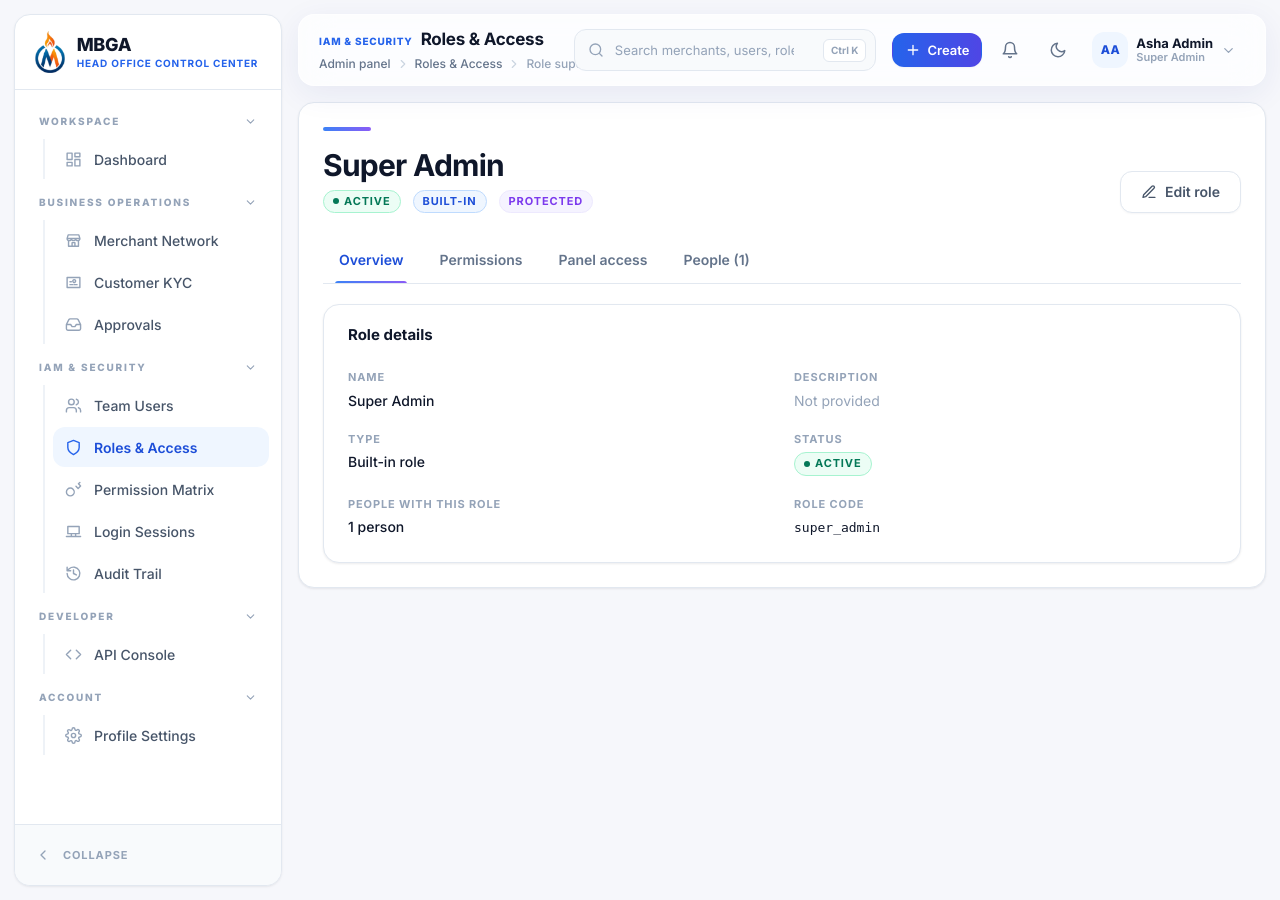
Test: Roles page › deactivates a custom role only after confirmation; the Super Admin role cannot be deactivated
The image size is (1280, 900).
Expected: the heading "Super Admin" is shown, [323, 147, 504, 183]
Click the link "Roles & Access" next to "Admin panel".
click(459, 63)  # box [415, 56, 502, 71]
(page scrolled)
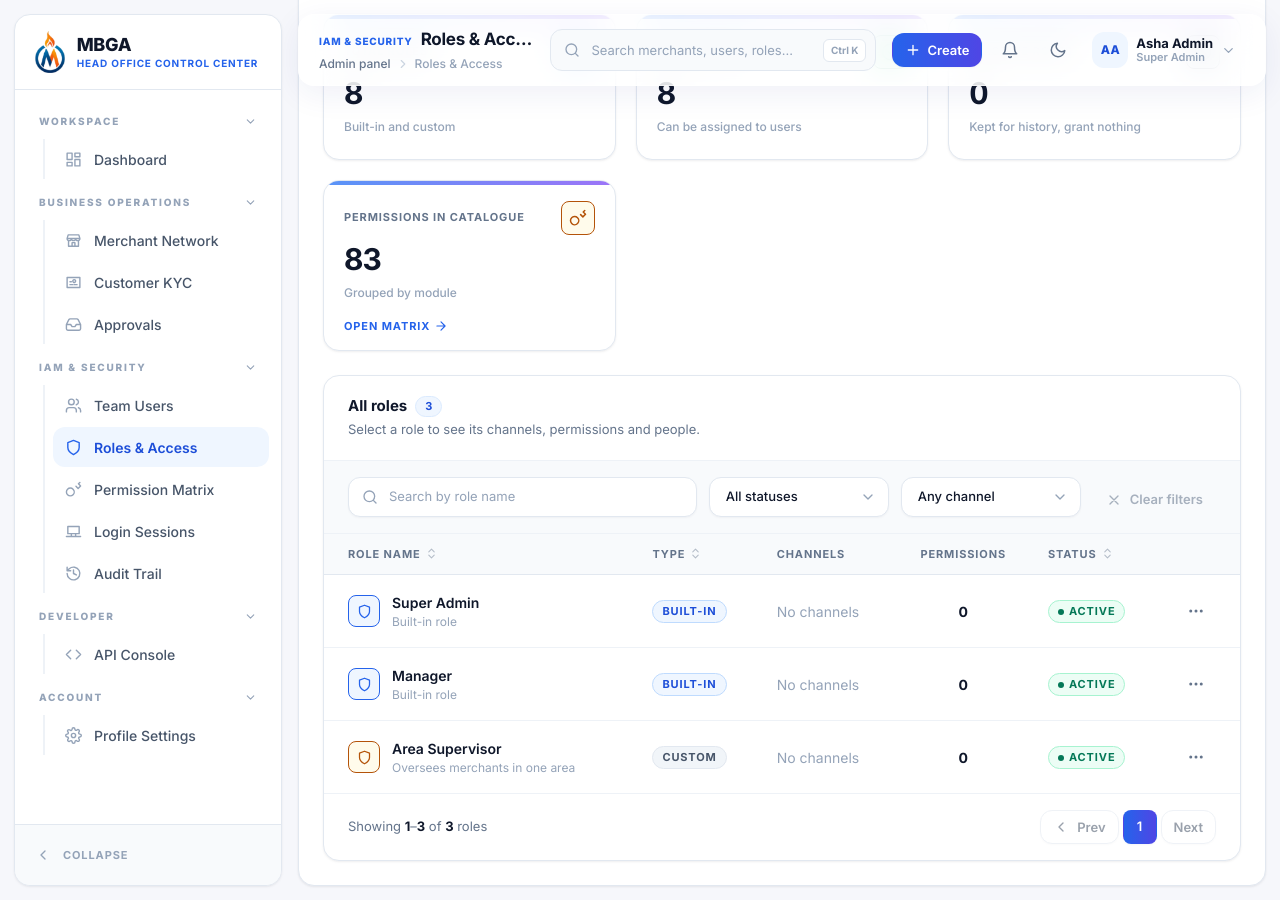
Click the link "Area Supervisor".
click(447, 748)  # box [392, 740, 502, 756]
(page scrolled)
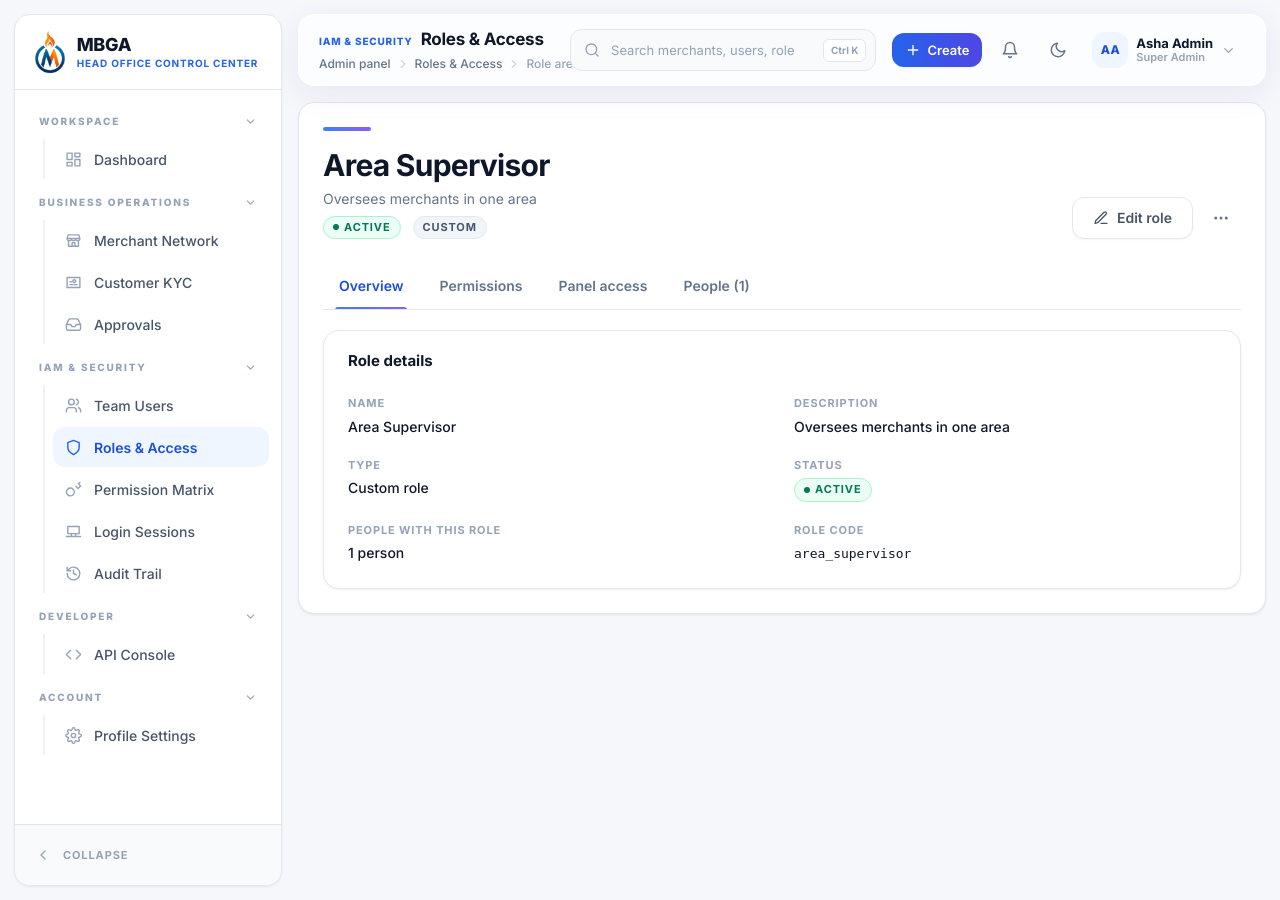
Result: the heading "Area Supervisor" is shown at [323, 148, 550, 182]
Click the button named "More role actions".
click(1221, 218)  # box [1201, 198, 1241, 238]
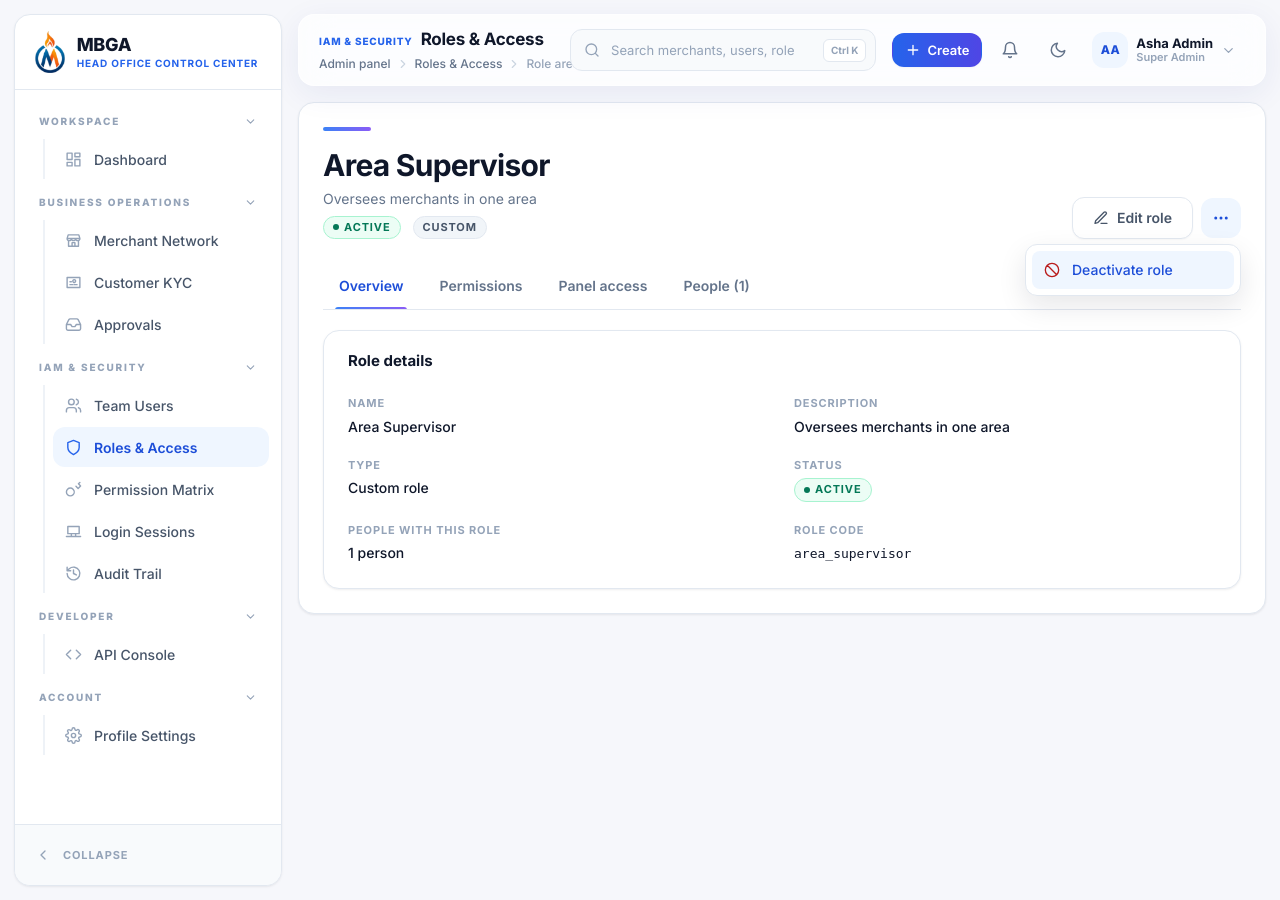
Click the menu item "Deactivate role".
click(1133, 270)  # box [1032, 251, 1234, 289]
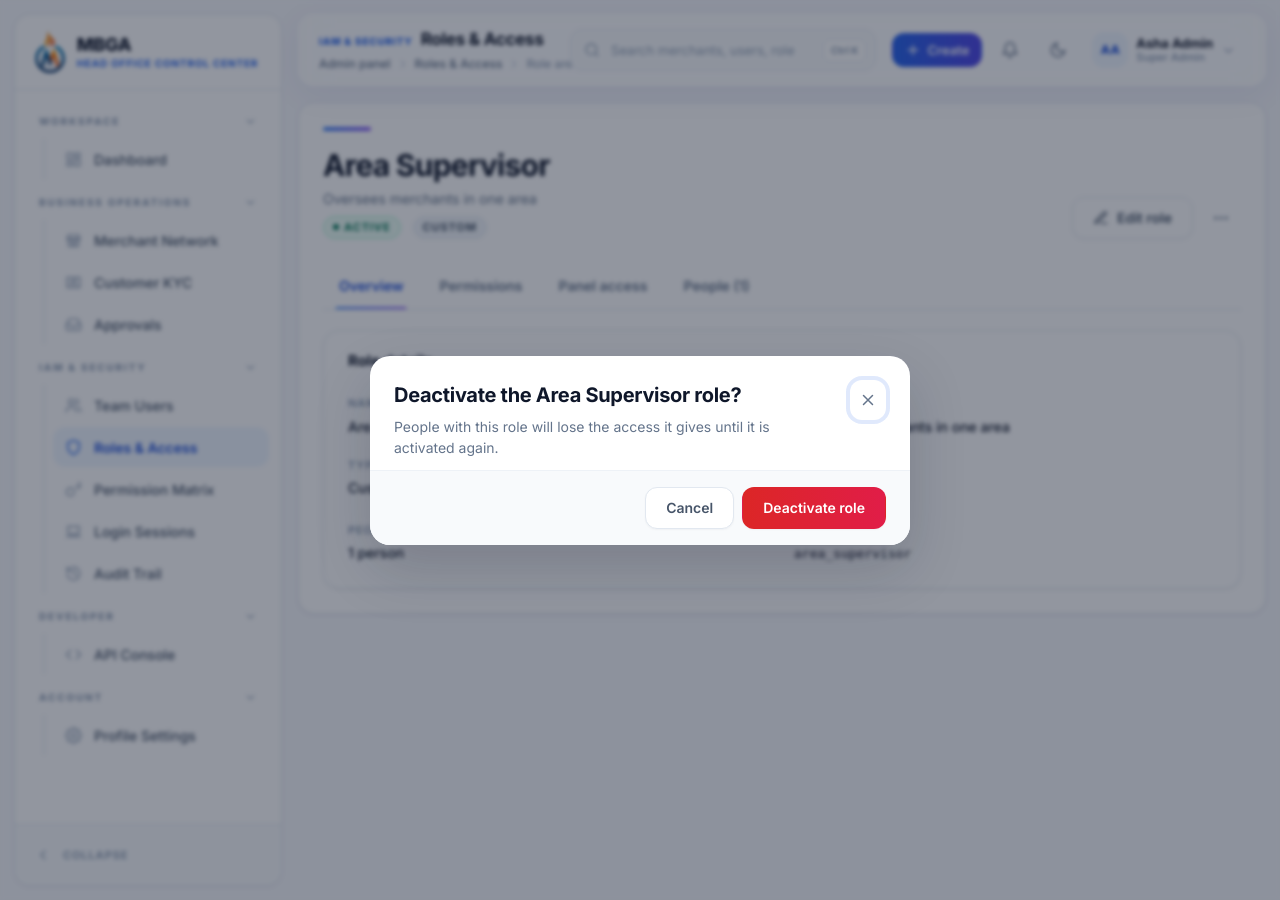
Click the button "Deactivate role".
click(814, 508)  # box [742, 486, 886, 528]
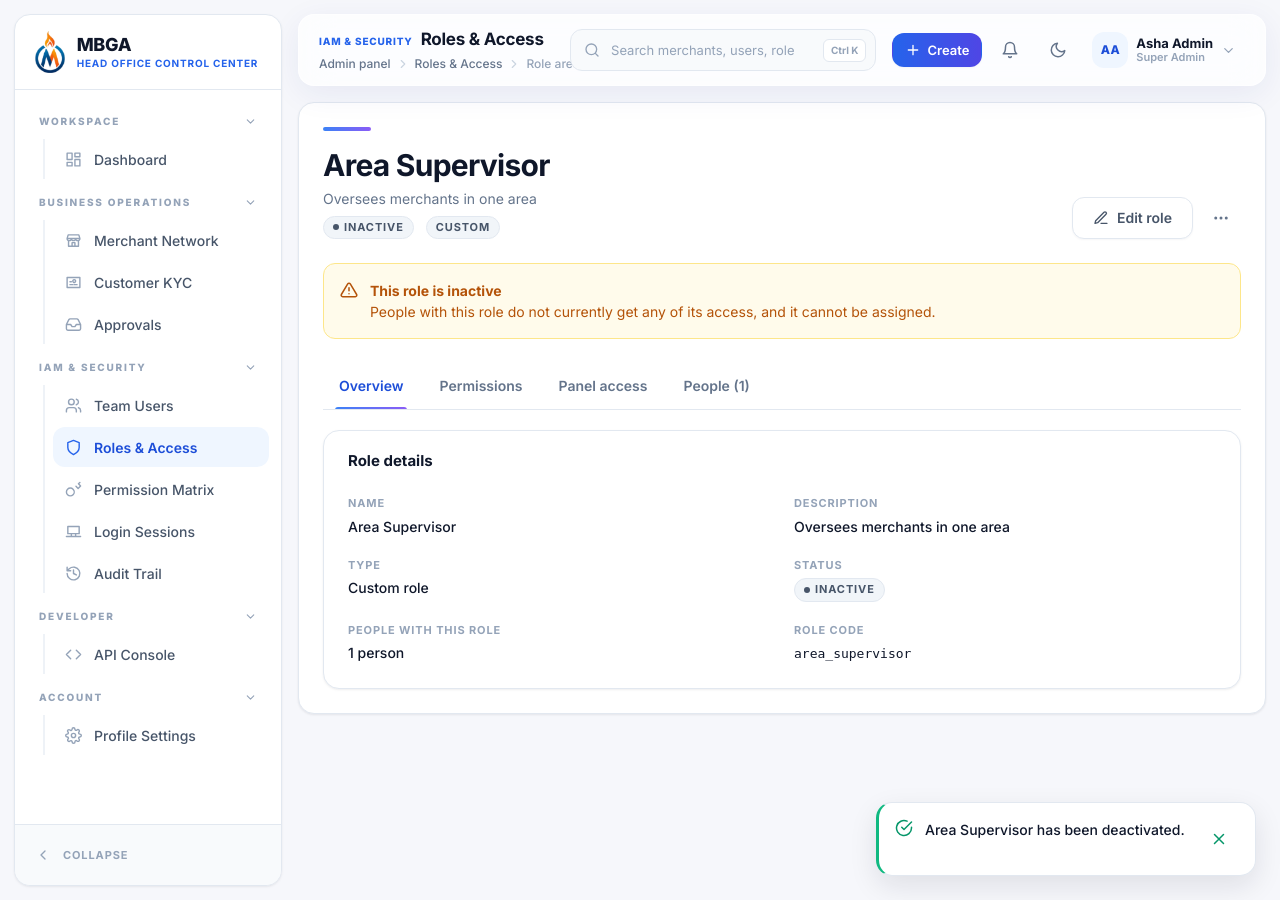
Result: the text "Area Supervisor has been deactivated." is shown at [925, 819, 1187, 840]
Result: the text "This role is inactive" is shown at [370, 282, 502, 299]
